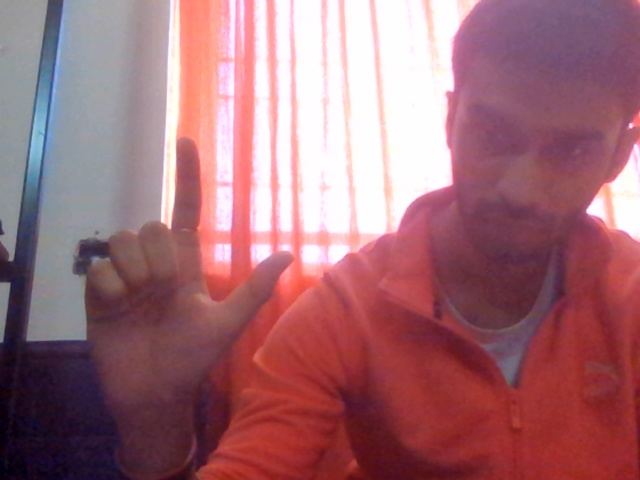L: (60, 113, 307, 460)
